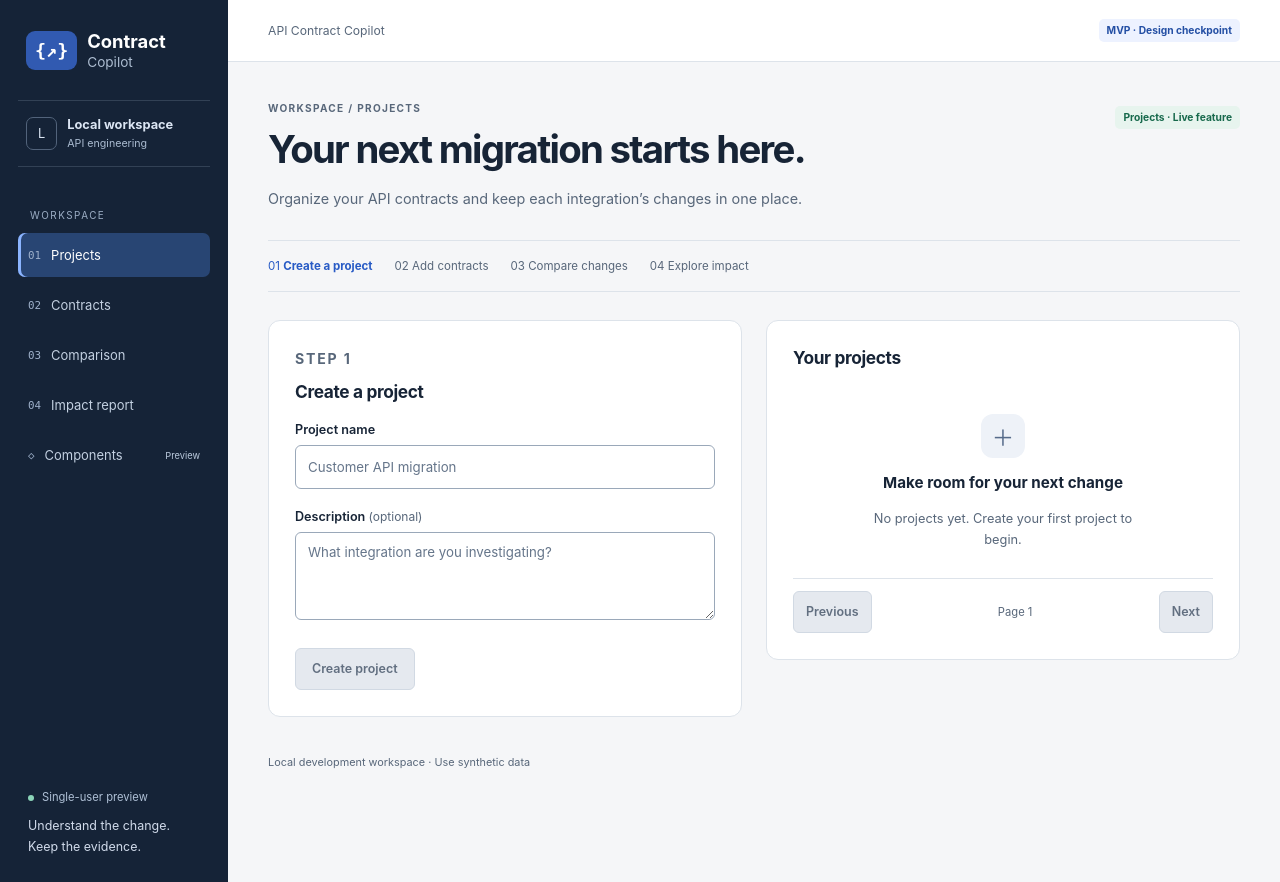
Test: shows loading and prevents duplicate creation while a save is pending
Later steps or results of the test are not shown.
Expected: the text "No projects yet. Create your first project to begin." is shown, x1=863 y1=508 x2=1143 y2=550
Type "Customer API" into the field labelled "Project name".
click(505, 466); type("Customer API")  # box x1=295 y1=444 x2=715 y2=488
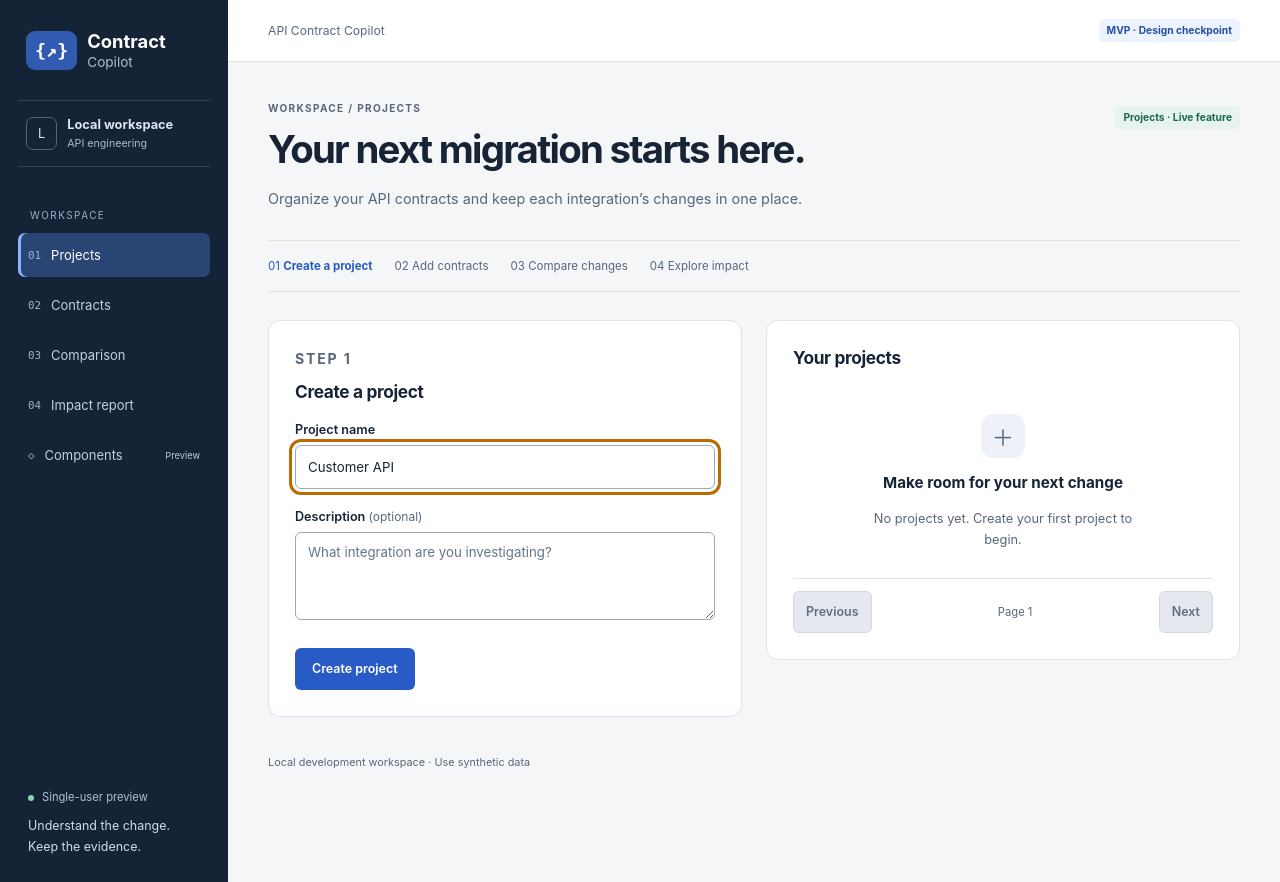
Click the button "Create project".
click(355, 668)  # box x1=295 y1=648 x2=415 y2=690
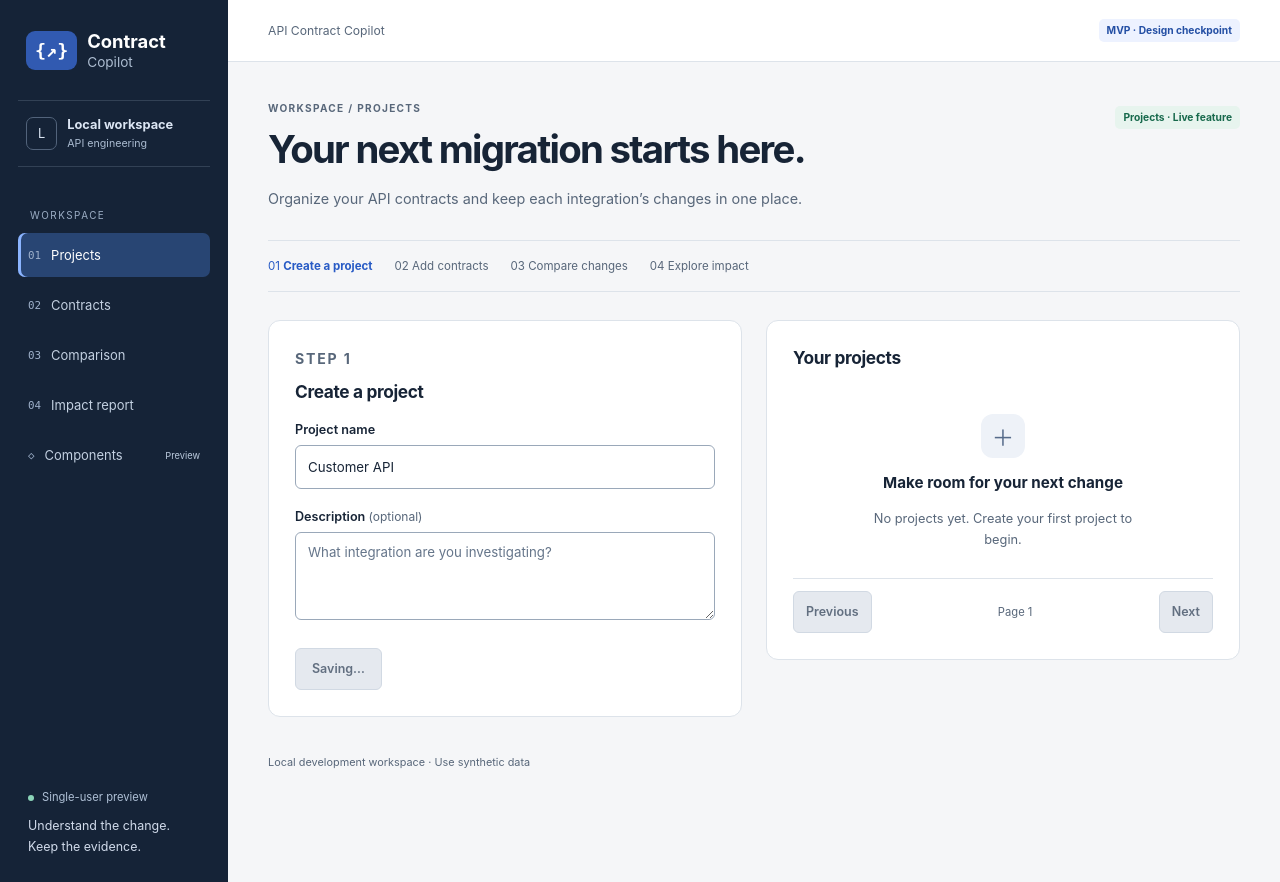
Now the button "Saving…" is disabled
Click the button "Saving…".
click(338, 668)  # box x1=295 y1=648 x2=382 y2=690
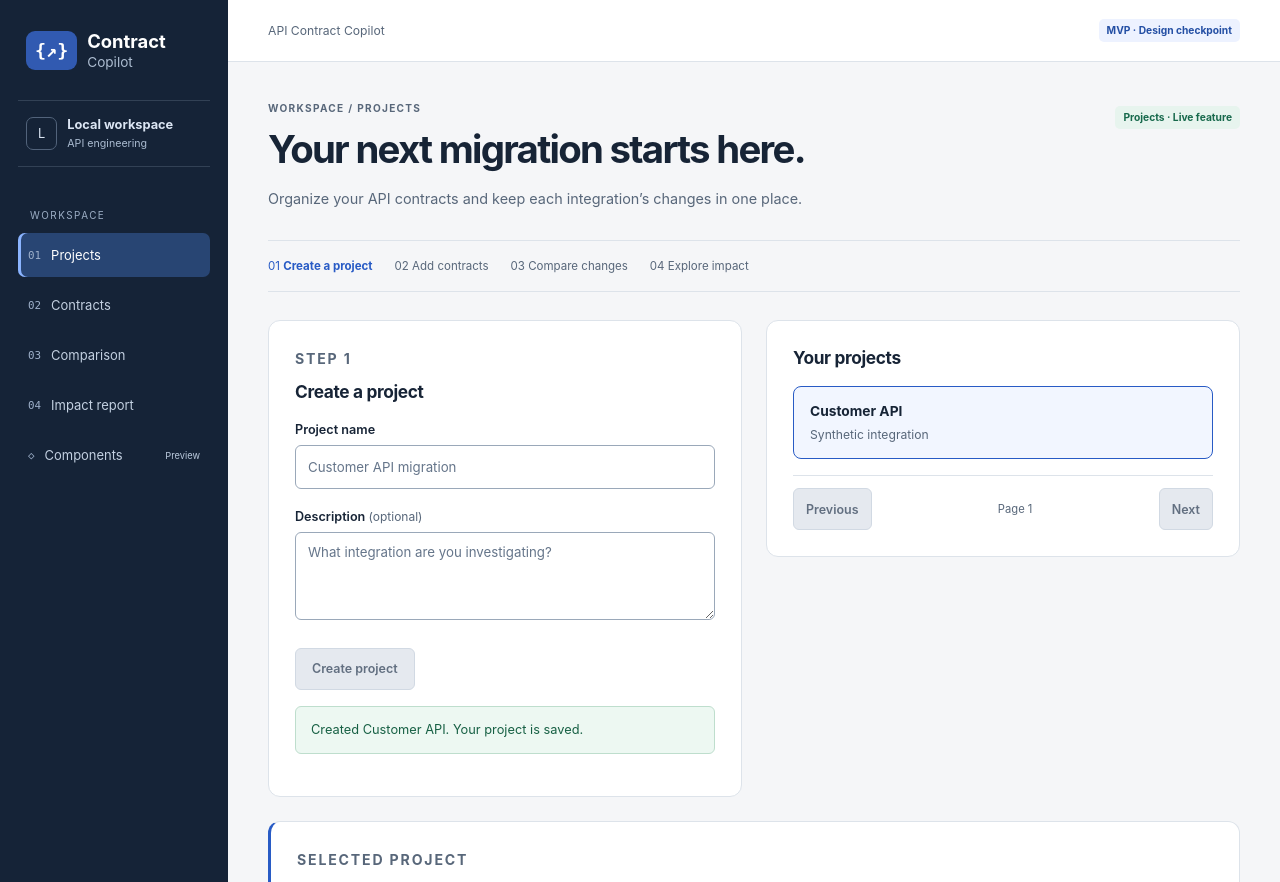
Now the button "Saving…" is gone
Now the button "Customer API Synthetic integration" is shown, box x1=793 y1=386 x2=1213 y2=459
